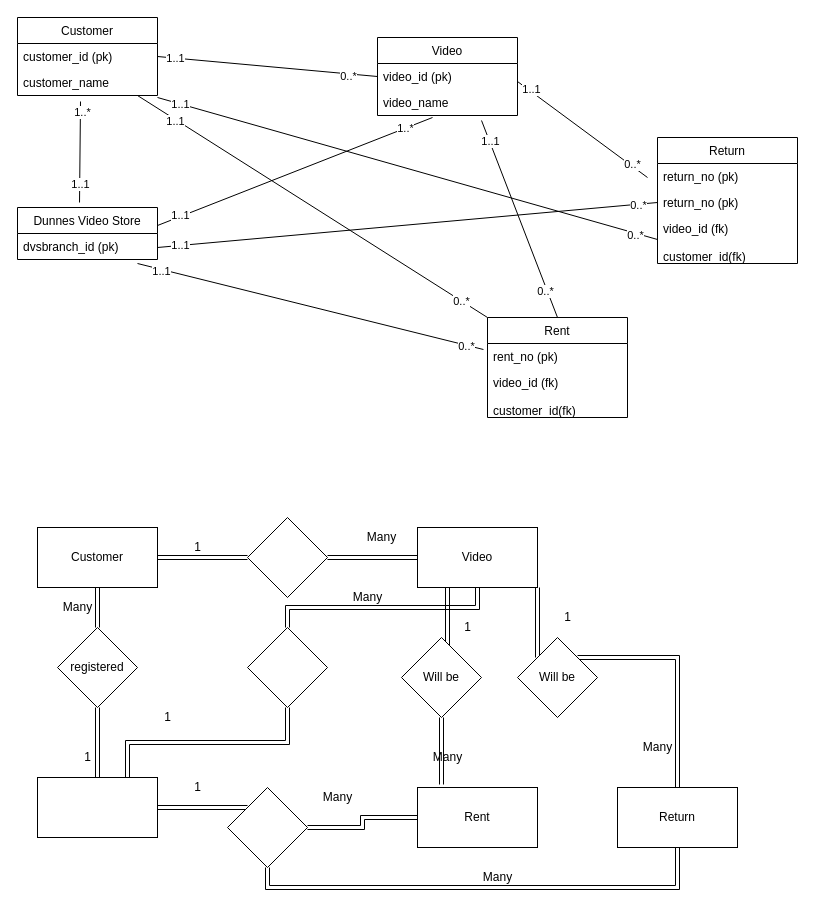
Image size: 815x907. Some labels were removed from this diagram. Each missing label, with the centre of its shape:
has: the point at 287,557
Owns: the point at 287,667
Tracks: the point at 267,827
Video Store: the point at 97,807
